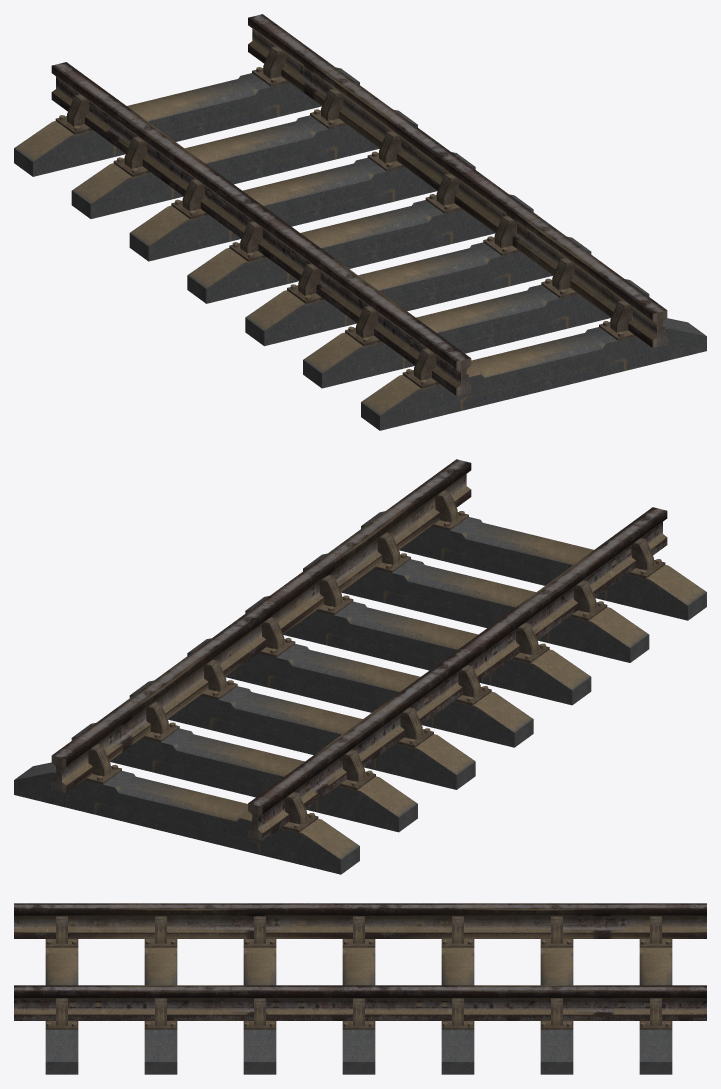
The model's file is SM_Tracks6m.FBX.
The picture shows the model from 3 angles, top to bottom: view 1: azimuth 30°, elevation 25°; view 2: azimuth 150°, elevation 25°; view 3: azimuth 270°, elevation 25°; orthographic projection. The views are drawn at different scales.
Parts seen in each view (by area): view 1: SM_Tracks6m; view 2: SM_Tracks6m; view 3: SM_Tracks6m.
Part boxes in pixels (bbox=[...]): SM_Tracks6m: bbox=[14, 14, 706, 430]; SM_Tracks6m: bbox=[14, 459, 706, 874]; SM_Tracks6m: bbox=[14, 903, 706, 1074].
Bounding box in the file's own units: 280 × 600 × 56.
